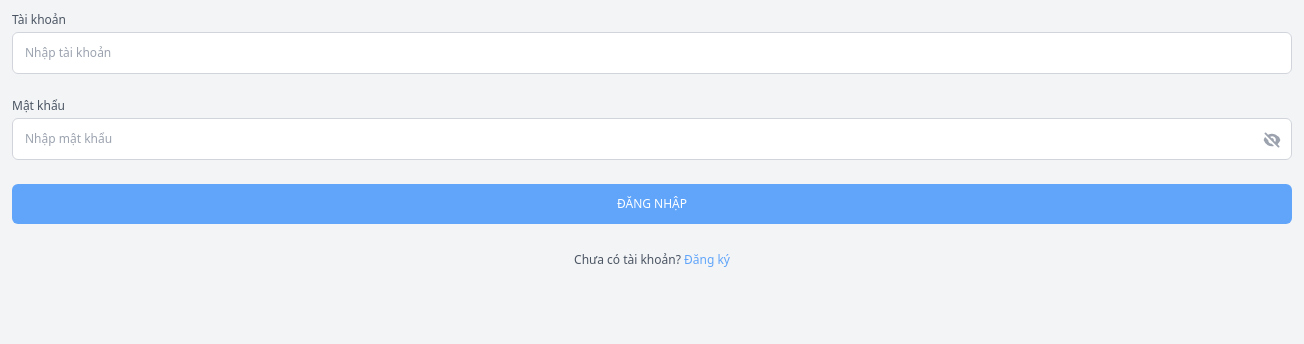
Test Component <FormSignIn /> › Render Component <FormSignIn /> with login fail
Type "emilys" into the field with test id "form-signin-username".
click(652, 53); type("emilys")  # box x1=12 y1=32 x2=1292 y2=74
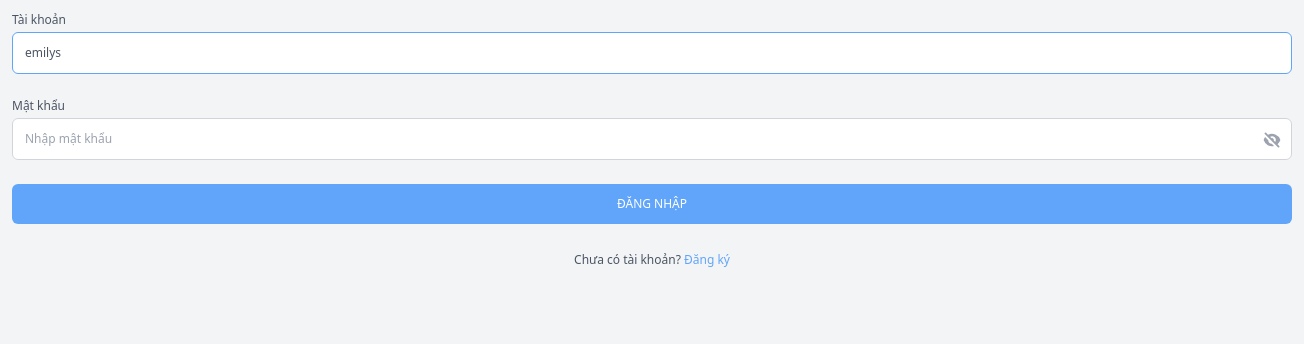
Type "emilyspass" into the password field with test id "form-signin-password".
click(652, 139); type("emilyspass")  # box x1=12 y1=118 x2=1292 y2=160
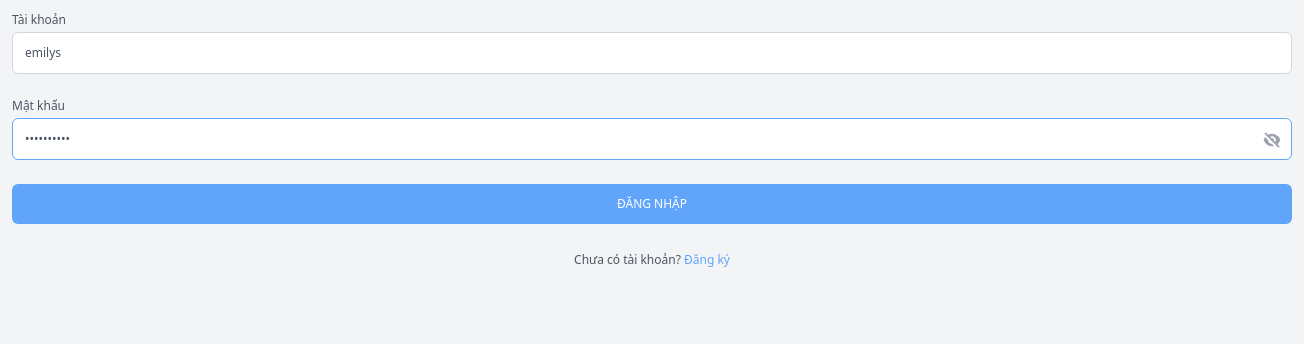
Click the button with test id "form-signin-button".
click(652, 204)  # box x1=12 y1=184 x2=1292 y2=224
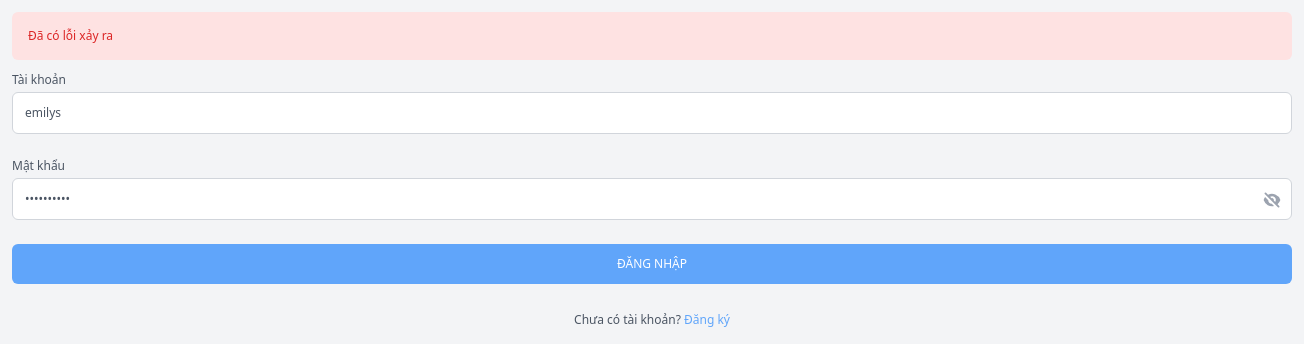
Check: the text "Đã có lỗi xảy ra" is shown, box x1=12 y1=12 x2=1292 y2=60
Check: the text with test id "form-signin-error" reads "Đã có lỗi xảy ra", box x1=28 y1=27 x2=113 y2=44
